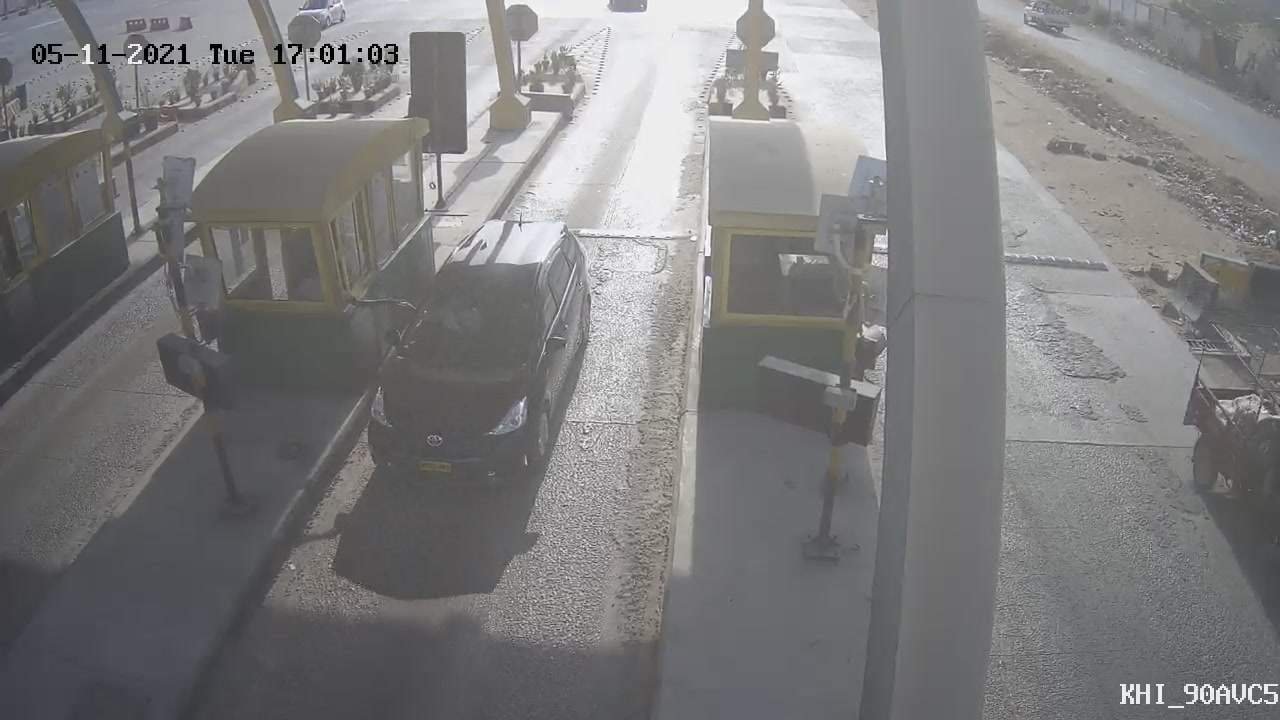F1: (335, 194, 616, 516)
